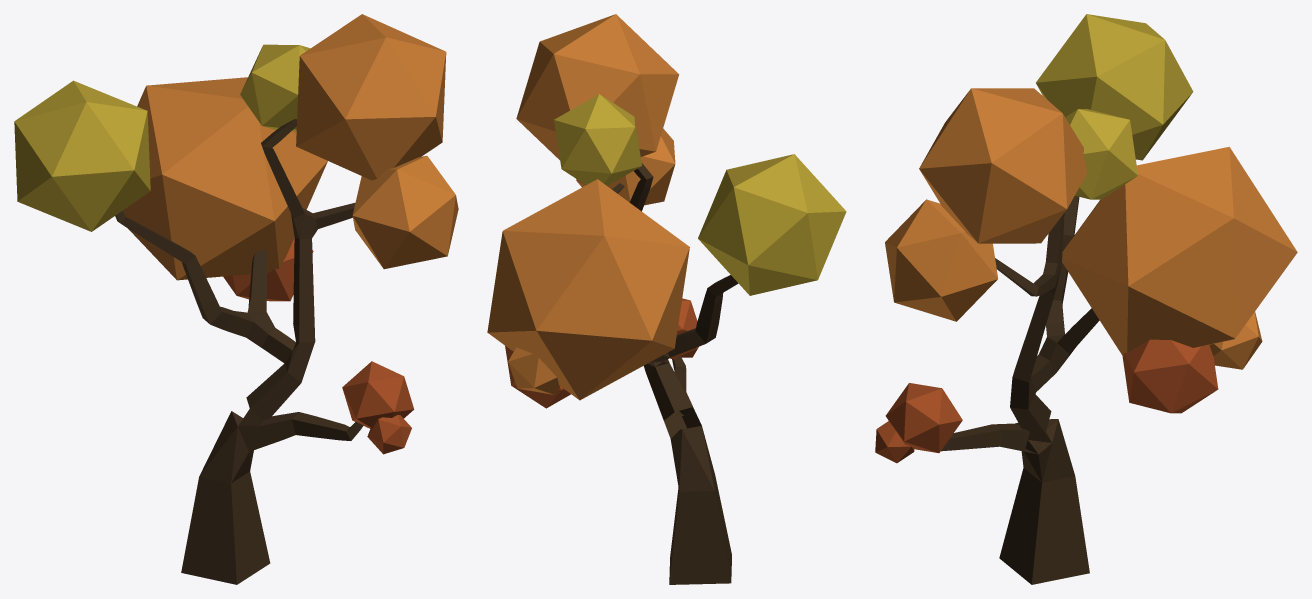
File: ico_tree_orange2.glb
The picture shows the model from 3 angles, left to right: view 1: azimuth 30°, elevation 25°; view 2: azimuth 150°, elevation 25°; view 3: azimuth 270°, elevation 25°; orthographic projection. The views are drawn at different scales.
Visible parts, largest first — view 1: Icosphere.027, Cube.009, Icosphere.032, Icosphere.028, Icosphere.029, Icosphere.026, Icosphere.030, Icosphere.033, Icosphere.031; view 2: Icosphere.027, Icosphere.028, Icosphere.032, Cube.009, Icosphere.026, Icosphere.029, Icosphere.034, Icosphere.033, Icosphere.030; view 3: Icosphere.027, Cube.009, Icosphere.032, Icosphere.028, Icosphere.029, Icosphere.033, Icosphere.026, Icosphere.030, Icosphere.034, Icosphere.031.
Boxes of the visible parts, box(x1,y1,x2,y2) form: Icosphere.027: box(123, 77, 327, 280); Cube.009: box(115, 119, 363, 584); Icosphere.032: box(296, 14, 446, 180); Icosphere.028: box(14, 80, 150, 231); Icosphere.029: box(352, 155, 458, 269); Icosphere.026: box(240, 44, 310, 131); Icosphere.030: box(342, 361, 414, 428); Icosphere.033: box(223, 238, 313, 301); Icosphere.031: box(367, 415, 411, 454); Icosphere.027: box(487, 179, 689, 400); Icosphere.028: box(698, 154, 846, 295); Icosphere.032: box(516, 14, 679, 159); Cube.009: box(612, 163, 738, 584); Icosphere.026: box(554, 94, 641, 185); Icosphere.029: box(576, 128, 675, 205); Icosphere.034: box(508, 347, 559, 394); Icosphere.033: box(505, 346, 570, 408); Icosphere.030: box(669, 298, 697, 359); Icosphere.027: box(1062, 146, 1297, 356); Cube.009: box(941, 196, 1099, 584); Icosphere.032: box(919, 88, 1087, 243); Icosphere.028: box(1036, 14, 1193, 160); Icosphere.029: box(885, 199, 998, 321); Icosphere.033: box(1122, 339, 1218, 413); Icosphere.026: box(1065, 109, 1137, 199); Icosphere.030: box(885, 383, 962, 453); Icosphere.034: box(1209, 312, 1262, 369); Icosphere.031: box(875, 421, 914, 463).
Bounding box in the file's own units: 6.71 × 9.4 × 6.64.
